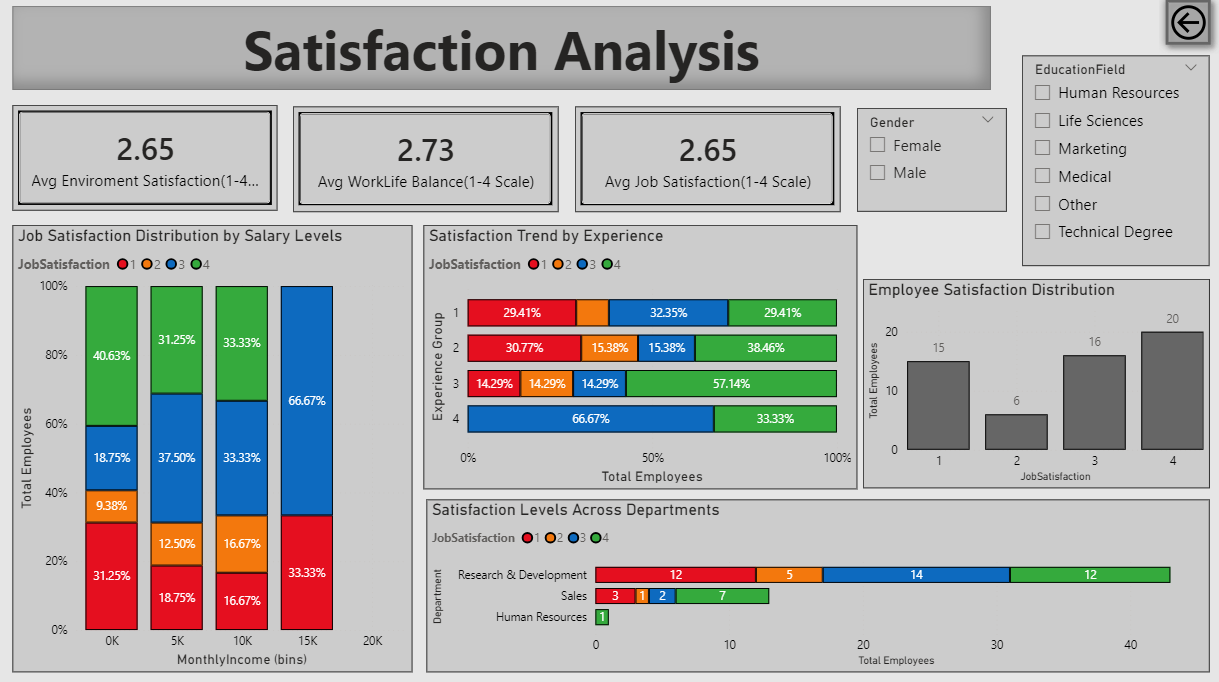

What the dashboard file says about the page in this screenshot:
{"tool":"powerbi","page":{"name":"Satisfaction Analysis","canvas":[1280,720],"ordinal":3},"visuals":[{"type":"clusteredColumnChart","title":"Employee Satisfaction Distribution","fields":{"Category":["Dim_Satisfaction.JobSatisfaction"],"Y":["HR_Analysis.Total Employees"]},"box":[903.5,300.6,361.1,217.9],"z":0},{"type":"barChart","title":"Satisfaction Levels Across Departments","fields":{"Series":["Dim_Satisfaction.JobSatisfaction"],"Category":["Dim_Job.Department"],"Y":["HR_Analysis.Total Employees"]},"box":[448.6,529.7,816,179.7],"z":1000},{"type":"hundredPercentStackedBarChart","title":"Satisfaction Trend by Experience","fields":{"Series":["Dim_Satisfaction.JobSatisfaction"],"Category":["HR_Analysis.Experience Group"],"Y":["HR_Analysis.Total Employees"]},"box":[445.4,243.4,451.7,275.2],"z":2000},{"type":"slicer","fields":{"Values":["Dim_Employee.Gender"]},"box":[896.5,122.5,155.9,108.2],"z":3000},{"type":"slicer","fields":{"Values":["Dim_Employee.EducationField"]},"box":[1068.9,66.8,195.6,219.5],"z":4000},{"type":"hundredPercentStackedColumnChart","title":"Job Satisfaction Distribution by Salary Levels","fields":{"Category":["HR_Analysis.MonthlyIncome (bins)"],"Series":["Dim_Satisfaction.JobSatisfaction"],"Y":["HR_Analysis.Total Employees"]},"box":[17.5,243.4,416.7,466],"z":5000},{"type":"textbox","box":[17.5,15.9,1019.6,87.5],"z":6000},{"type":"actionButton","box":[1210.5,0,65,65],"z":7000},{"type":"cardVisual","fields":{"Data":["HR_Analysis.Avg Enviroment Satisfaction(1-4 Scale)"]},"box":[17.5,119.3,276,110],"z":8000},{"type":"cardVisual","fields":{"Data":["HR_Analysis.Avg WorkLife Balance(1-4 Scale)"]},"box":[310,120.9,276.8,109.8],"z":9000},{"type":"cardVisual","fields":{"Data":["HR_Analysis.Avg Job Satisfaction(1-4 Scale)"]},"box":[603.3,120.9,276.8,109.8],"z":10000}]}

Visuals, with their boxes in screenshot pixels (x1, y1, x2, y2), scaled from the page's 1280x720 canvas onto the 1219x682 screenshot:
"Employee Satisfaction Distribution" clusteredColumnChart: [860,285,1204,491]
"Satisfaction Levels Across Departments" barChart: [427,502,1204,672]
"Satisfaction Trend by Experience" hundredPercentStackedBarChart: [424,231,854,491]
slicer - Dim_Employee.Gender: [854,116,1002,219]
slicer - Dim_Employee.EducationField: [1018,63,1204,271]
"Job Satisfaction Distribution by Salary Levels" hundredPercentStackedColumnChart: [17,231,414,672]
textbox: [17,15,988,98]
actionButton: [1153,0,1215,62]
cardVisual - HR_Analysis.Avg Enviroment Satisfaction(1-4 Scale): [17,113,280,217]
cardVisual - HR_Analysis.Avg WorkLife Balance(1-4 Scale): [295,115,559,219]
cardVisual - HR_Analysis.Avg Job Satisfaction(1-4 Scale): [575,115,838,219]
